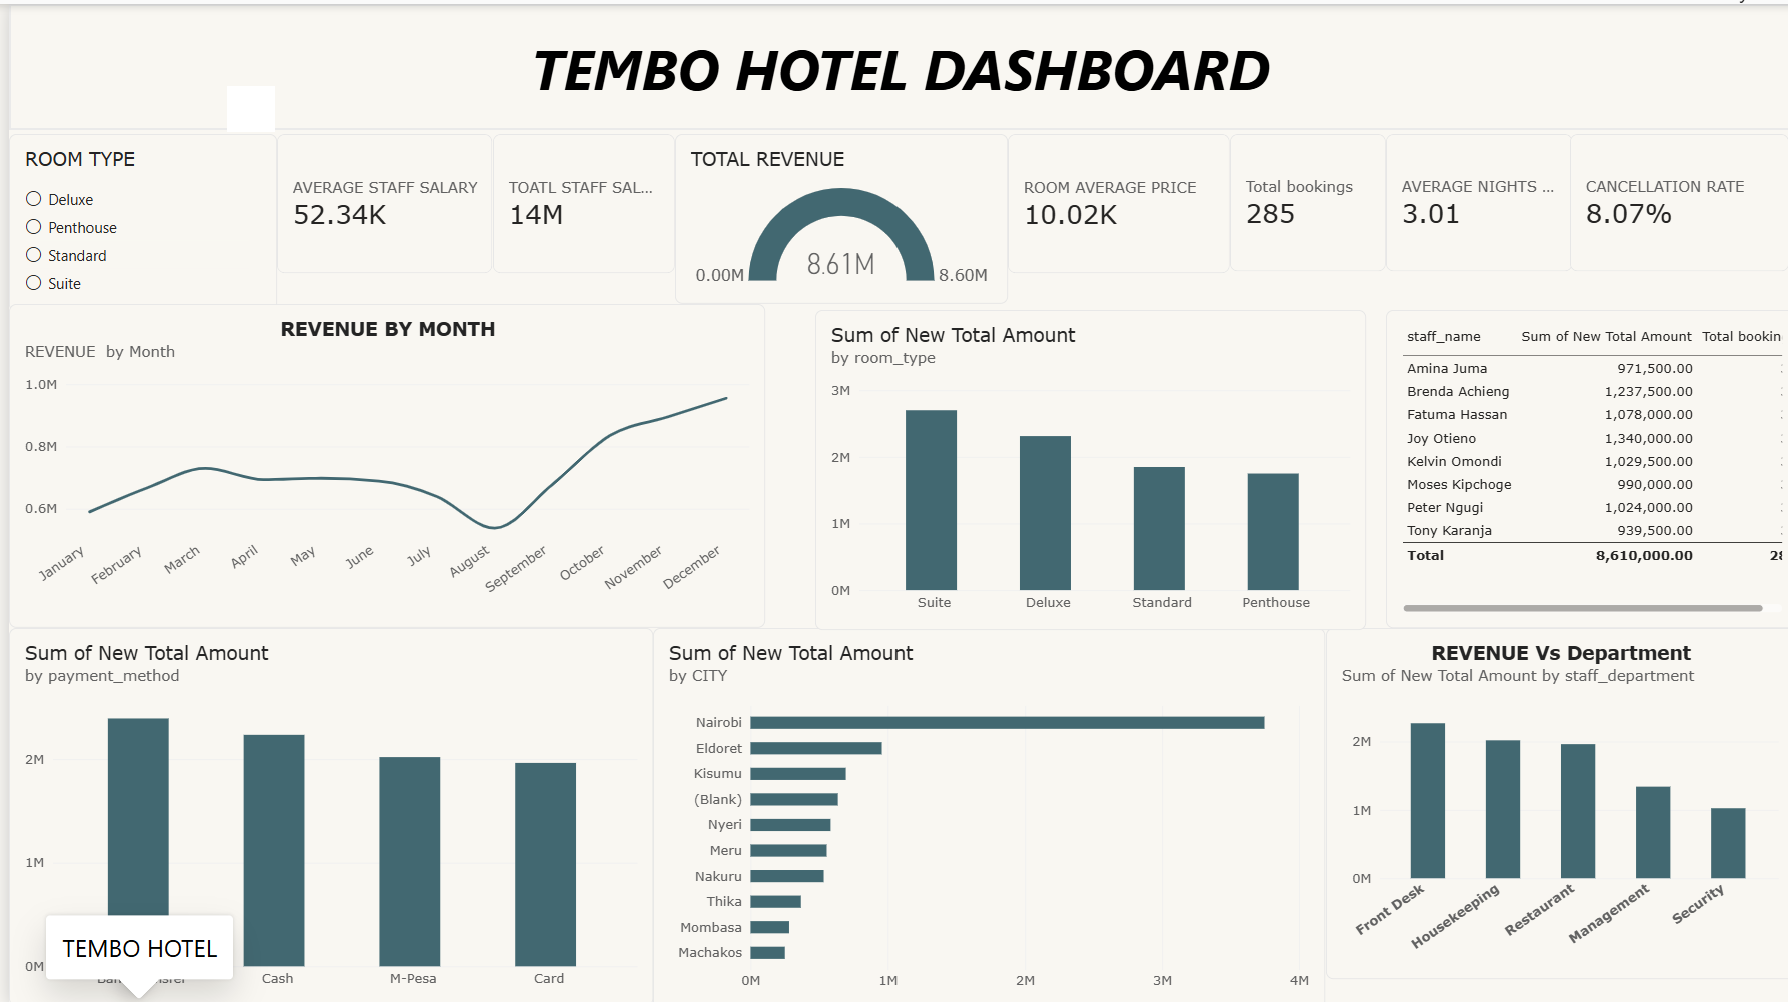

This screenshot's page, from the dashboard's own definition file:
{"tool":"powerbi","page":{"name":"TEMBO HOTEL","canvas":[1920,1080],"ordinal":0},"visuals":[{"type":"cardVisual","title":"STAFF SALARY","fields":{"Data":["Sum(tembo_hotel.staff_salary)"]},"box":[521.7,140.1,196.2,150.9],"z":0},{"type":"shape","box":[0,0,1920.7,135.8],"z":1000},{"type":"cardVisual","fields":{"Data":["Avg(tembo_hotel.room_rate_per_night)"]},"box":[1075.7,140.1,239.3,150.9],"z":2000},{"type":"cardVisual","fields":{"Data":["Avg(tembo_hotel.staff_salary)"]},"box":[288.9,140.1,232.8,150.9],"z":3000},{"type":"cardVisual","fields":{"Data":["Avg(tembo_hotel.Nights Clean)"]},"box":[1483.1,140.2,201.5,149],"z":4000},{"type":"columnChart","fields":{"Category":["tembo_hotel.payment_method"],"Y":["Sum(tembo_hotel.New Total Amount)"]},"box":[0,673.3,694.4,407.7],"z":5000},{"type":"barChart","fields":{"Category":["tembo_hotel.guest_city"],"Y":["Sum(tembo_hotel.New Total Amount)"]},"box":[694.4,673.3,723.3,410.3],"z":6000},{"type":"columnChart","title":"REVENUE Vs Department","fields":{"Category":["tembo_hotel.staff_department"],"Y":["Sum(tembo_hotel.New Total Amount)"]},"box":[1417.6,673.3,505,378.7],"z":7000},{"type":"cardVisual","fields":{"Data":["tembo_hotel.Total counts"]},"box":[1314.4,140.2,168.7,149],"z":8000},{"type":"cardVisual","fields":{"Data":["tembo_hotel.Cancellation rate"]},"box":[1682.4,140.2,236.6,149],"z":9000},{"type":"columnChart","fields":{"Category":["tembo_hotel.room_type"],"Y":["Sum(tembo_hotel.New Total Amount)"]},"box":[868.7,329.8,592.8,344.9],"z":10000},{"type":"listSlicer","fields":{"Values":["tembo_hotel.room_type"]},"box":[0,140.1,288.9,191.9],"z":11000},{"type":"tableEx","fields":{"Values":["tembo_hotel.staff_name","Sum(tembo_hotel.New Total Amount)","tembo_hotel.Total bookings"]},"box":[1483.1,329.8,444.1,342.8],"z":12000},{"type":"lineChart","title":"REVENUE BY MONTH","fields":{"Category":["tembo_hotel.check_in_date.Variation.Date Hierarchy.Month"],"Y":["Sum(tembo_hotel.New Total Amount)"]},"box":[0,323.4,814.9,349.2],"z":13000},{"type":"gauge","fields":{"Y":["Sum(tembo_hotel.New Total Amount)"]},"box":[717.8,140.1,357.8,183.2],"z":14000}]}

Visuals, with their boxes in screenshot pixels (x1, y1, x2, y2), scaled from the page's 1920x1080 canvas onto the 1788x1002 screenshot:
"STAFF SALARY" cardVisual: [486, 130, 669, 270]
shape: [0, 0, 1787, 126]
cardVisual - Avg(tembo_hotel.room_rate_per_night): [1002, 130, 1225, 270]
cardVisual - Avg(tembo_hotel.staff_salary): [269, 130, 486, 270]
cardVisual - Avg(tembo_hotel.Nights Clean): [1381, 130, 1569, 268]
columnChart - tembo_hotel.payment_method x Sum(tembo_hotel.New Total Amount): [0, 625, 647, 1001]
barChart - tembo_hotel.guest_city x Sum(tembo_hotel.New Total Amount): [647, 625, 1320, 1001]
"REVENUE Vs Department" columnChart: [1320, 625, 1787, 976]
cardVisual - tembo_hotel.Total counts: [1224, 130, 1381, 268]
cardVisual - tembo_hotel.Cancellation rate: [1567, 130, 1787, 268]
columnChart - tembo_hotel.room_type x Sum(tembo_hotel.New Total Amount): [809, 306, 1361, 626]
listSlicer - tembo_hotel.room_type: [0, 130, 269, 308]
tableEx - tembo_hotel.staff_name x Sum(tembo_hotel.New Total Amount): [1381, 306, 1787, 624]
"REVENUE BY MONTH" lineChart: [0, 300, 759, 624]
gauge - Sum(tembo_hotel.New Total Amount): [668, 130, 1002, 300]
